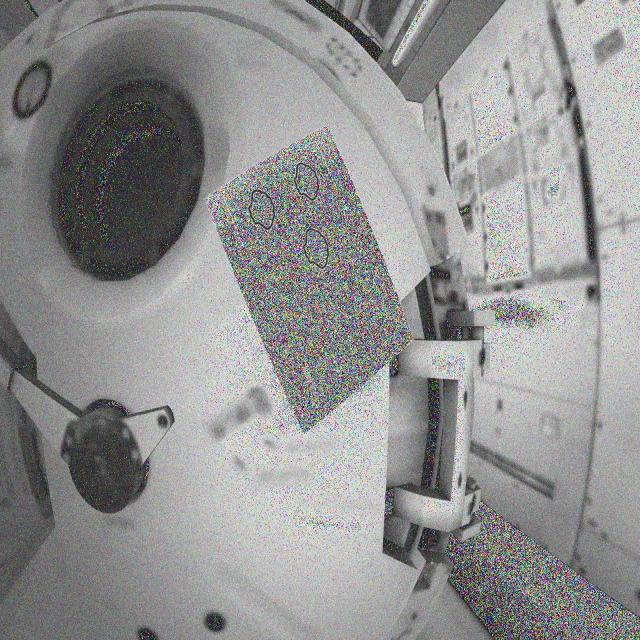shell: (288, 156, 329, 209), (299, 223, 336, 276), (245, 187, 283, 238)
